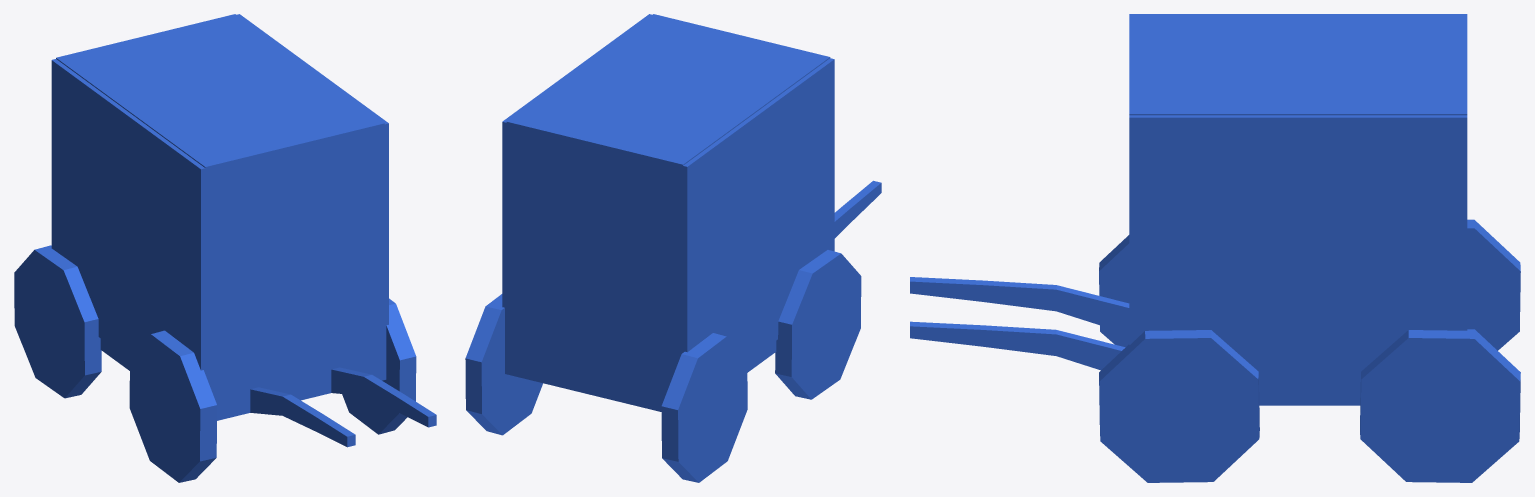
The model's file is Collision_Wagon.fbx.
3 views of the same model, side by side, from view 1: azimuth 30°, elevation 25°; view 2: azimuth 150°, elevation 25°; view 3: azimuth 270°, elevation 25° (orthographic). The views are drawn at different scales.
Visible parts, largest first — view 1: UCX_Wagon_06, UCX_Wagon_10, UCX_Wagon_08, UCX_Wagon_03, UCX_Wagon_04, UCX_Wagon_01, UCX_Wagon_09, UCX_Wagon_05, UCX_Wagon_07, UCX_Wagon_11, UCX_Wagon_12, UCX_Wagon_16 (+3 smaller); view 2: UCX_Wagon_07, UCX_Wagon_10, UCX_Wagon_08, UCX_Wagon_04, UCX_Wagon_03, UCX_Wagon_02, UCX_Wagon_05, UCX_Wagon_09, UCX_Wagon_06, UCX_Wagon_14; view 3: UCX_Wagon_09, UCX_Wagon_08, UCX_Wagon_02, UCX_Wagon_01, UCX_Wagon_04, UCX_Wagon_12, UCX_Wagon_03, UCX_Wagon_16, UCX_Wagon_15, UCX_Wagon_11, UCX_Wagon_06, UCX_Wagon_07 (+4 smaller).
Boxes of the visible parts, <box> form: UCX_Wagon_06: <box>199,119,384,405</box>; UCX_Wagon_10: <box>51,59,210,384</box>; UCX_Wagon_08: <box>56,14,384,180</box>; UCX_Wagon_03: <box>129,330,216,482</box>; UCX_Wagon_04: <box>14,245,101,398</box>; UCX_Wagon_01: <box>342,298,416,434</box>; UCX_Wagon_09: <box>236,14,388,367</box>; UCX_Wagon_05: <box>100,338,386,420</box>; UCX_Wagon_07: <box>56,14,240,62</box>; UCX_Wagon_11: <box>331,367,371,395</box>; UCX_Wagon_12: <box>250,387,290,415</box>; UCX_Wagon_16: <box>363,375,403,410</box>; UCX_Wagon_07: <box>506,117,689,397</box>; UCX_Wagon_10: <box>678,58,834,361</box>; UCX_Wagon_08: <box>506,15,829,177</box>; UCX_Wagon_04: <box>661,333,747,482</box>; UCX_Wagon_03: <box>775,250,861,399</box>; UCX_Wagon_02: <box>465,294,542,435</box>; UCX_Wagon_05: <box>505,341,776,411</box>; UCX_Wagon_09: <box>502,14,652,359</box>; UCX_Wagon_06: <box>648,14,830,61</box>; UCX_Wagon_14: <box>841,180,881,223</box>; UCX_Wagon_09: <box>1129,115,1467,391</box>; UCX_Wagon_08: <box>1129,15,1467,115</box>; UCX_Wagon_02: <box>1360,329,1520,482</box>; UCX_Wagon_01: <box>1099,330,1259,482</box>; UCX_Wagon_04: <box>1467,219,1520,350</box>; UCX_Wagon_12: <box>1056,285,1129,334</box>; UCX_Wagon_03: <box>1099,235,1129,347</box>; UCX_Wagon_16: <box>983,325,1056,355</box>; UCX_Wagon_15: <box>983,280,1056,311</box>; UCX_Wagon_11: <box>1056,330,1125,370</box>; UCX_Wagon_06: <box>1129,15,1143,115</box>; UCX_Wagon_07: <box>1453,15,1467,115</box>.
Size of the model in its own units: 210 by 296 by 455.
